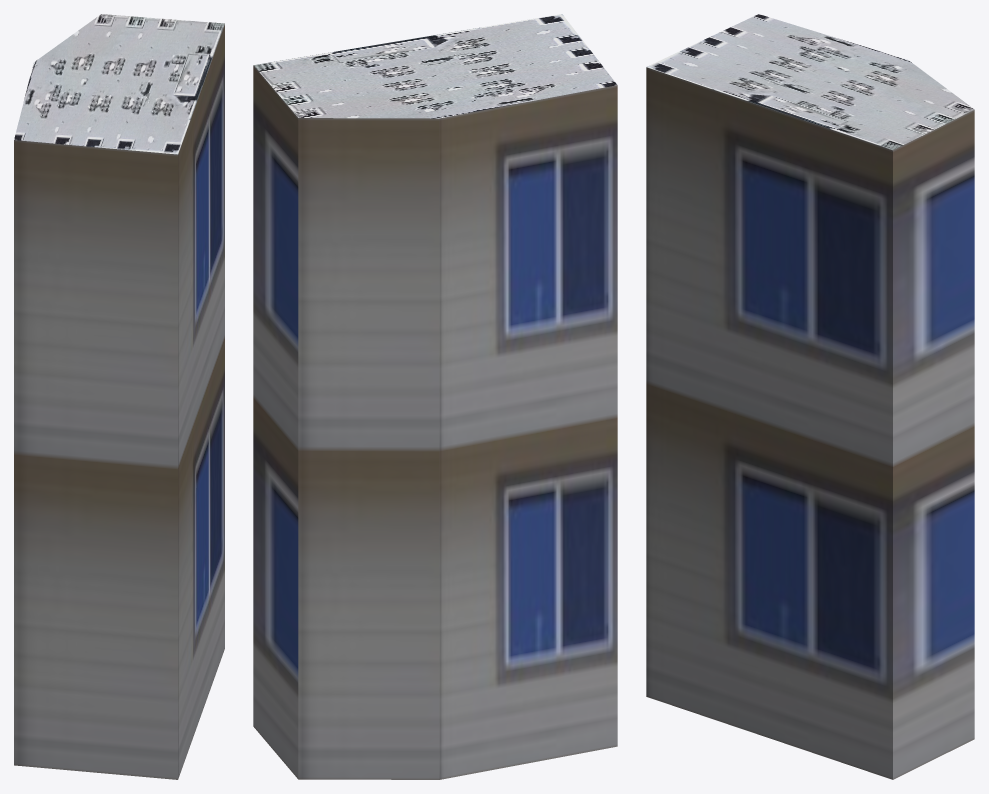
The model's file is ResTex__3704.fbx.
3 renders of one model, left to right at view 1: azimuth 30°, elevation 25°; view 2: azimuth 150°, elevation 25°; view 3: azimuth 270°, elevation 25°, orthographic. The views are drawn at different scales.
Parts seen in each view (by area): view 1: CityEngineMaterial_23_m, CityEngineMaterial_4_m; view 2: CityEngineMaterial_23_m, CityEngineMaterial_4_m; view 3: CityEngineMaterial_23_m, CityEngineMaterial_4_m.
Boxes of the visible parts, left/top/right/bottom form: CityEngineMaterial_23_m: left=14, top=24, right=224, bottom=779; CityEngineMaterial_4_m: left=14, top=14, right=224, bottom=154; CityEngineMaterial_23_m: left=253, top=65, right=617, bottom=779; CityEngineMaterial_4_m: left=253, top=14, right=616, bottom=118; CityEngineMaterial_23_m: left=646, top=67, right=974, bottom=779; CityEngineMaterial_4_m: left=646, top=14, right=974, bottom=150.
Bounding box in the file's own units: 2.79 × 6 × 2.84.
2 materials, 2 textured.
